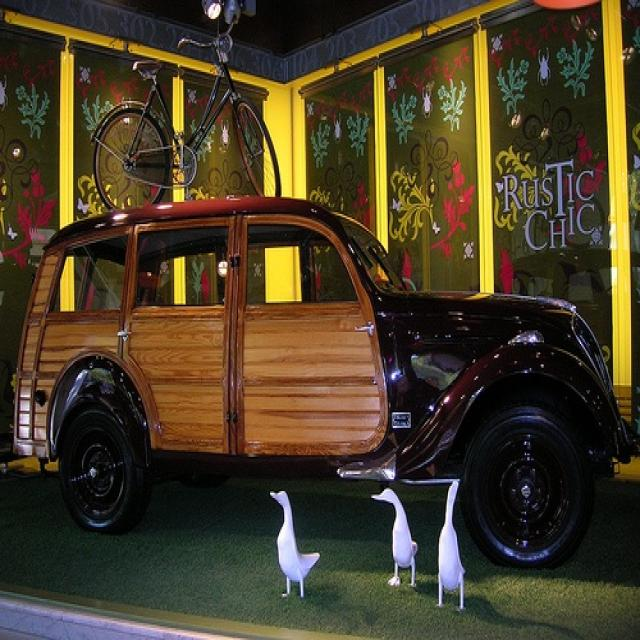bicycle: (90, 12, 280, 210)
car: (12, 200, 634, 573)
